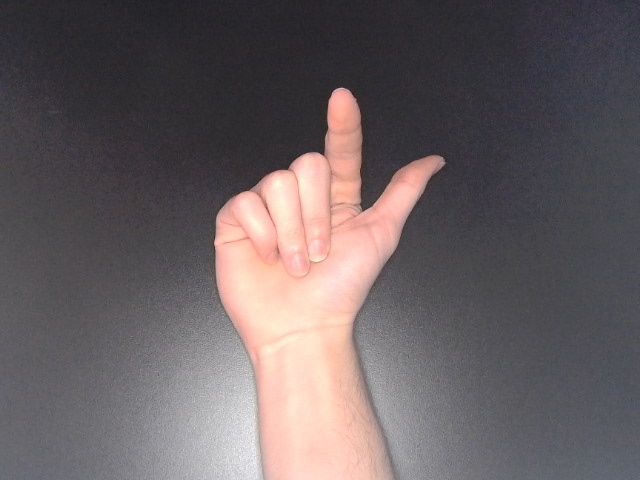t: (206, 82, 451, 361)
